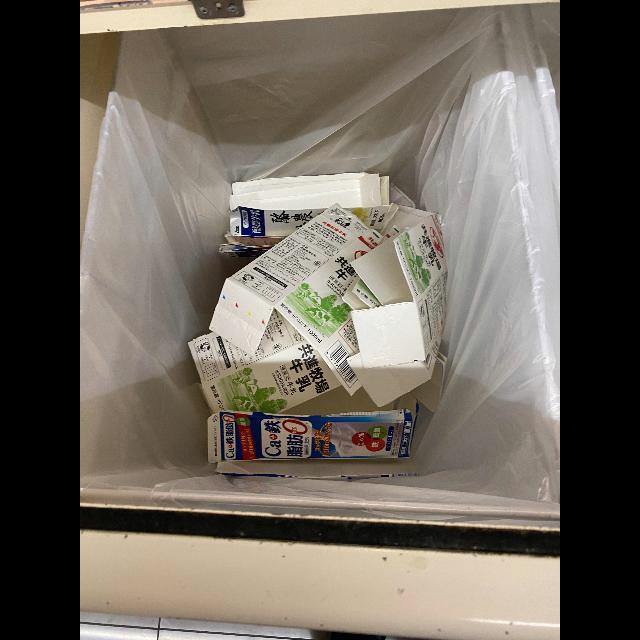cardboard: (208, 203, 384, 397), (343, 208, 447, 408), (187, 308, 342, 414), (219, 172, 396, 259), (207, 408, 417, 480)
